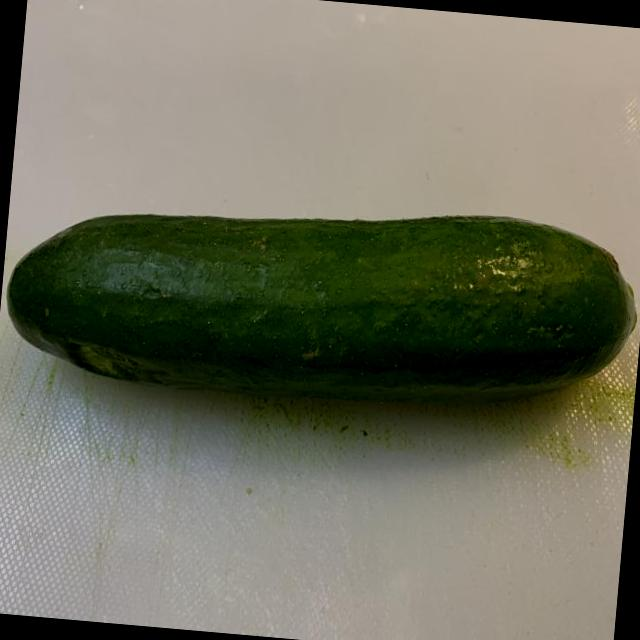Cucumber: (5, 174, 640, 425)
